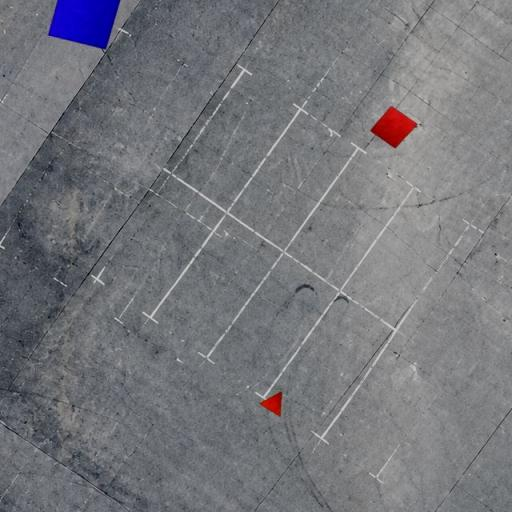BLUE_SQUARE: (47, 0, 125, 50)
RED_SQUARE: (370, 106, 418, 150)
